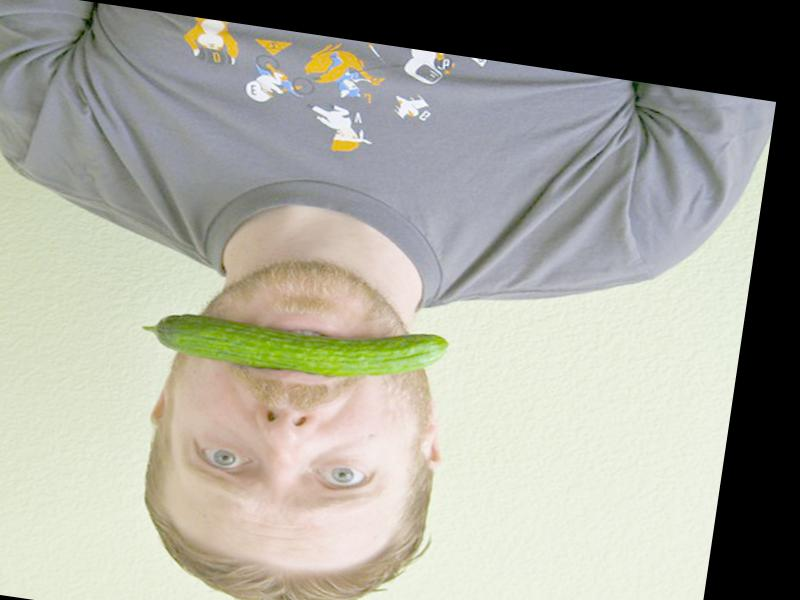Cucumber: (139, 292, 452, 393)
